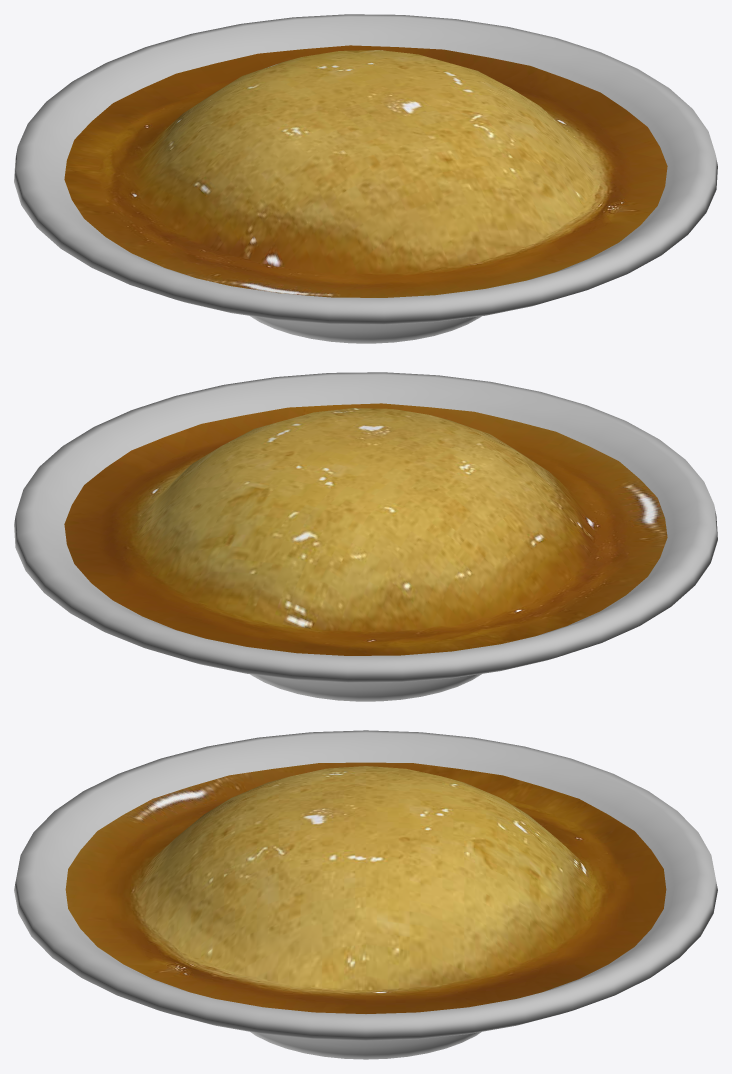
Rendered from tenshinhan.fbx.
3 views of the same model, one above another, from view 1: azimuth 30°, elevation 25°; view 2: azimuth 150°, elevation 25°; view 3: azimuth 270°, elevation 25° (orthographic).
Visible parts, largest first — view 1: tenshinhan_high; view 2: tenshinhan_high; view 3: tenshinhan_high.
Part boxes in pixels (x1,y1,x2,y2): tenshinhan_high: [14, 14, 717, 343]; tenshinhan_high: [14, 372, 717, 701]; tenshinhan_high: [14, 730, 717, 1059].
Size of the model in its own units: 2.51 by 0.7788 by 2.51.
